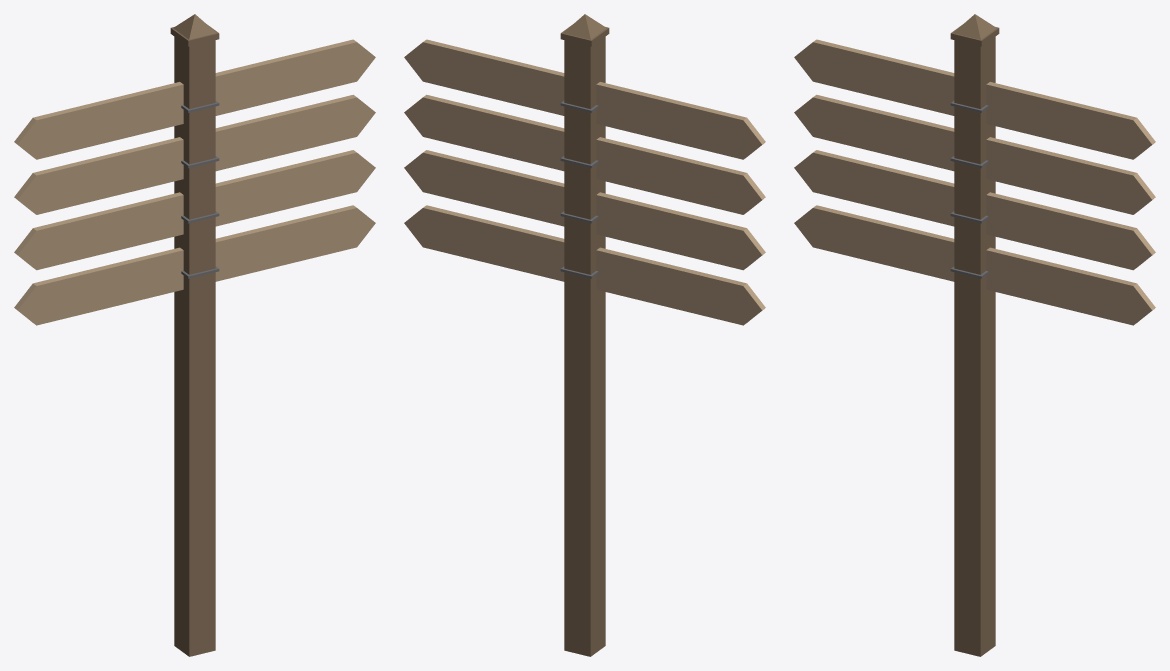
Rendered from fingerpost_4_1cd4858f.glb.
3 renders of one model, left to right at view 1: azimuth 30°, elevation 25°; view 2: azimuth 150°, elevation 25°; view 3: azimuth 330°, elevation 25°, orthographic.
Visible parts, largest first — view 1: post, arm2L, arm1L, arm3L, arm4L, arm2, arm3, arm4, arm1, collars; view 2: post, arm2L, arm1L, arm3L, arm4L, arm2, arm3, arm4, arm1, collars; view 3: post, arm2, arm1, arm3, arm4, arm2L, arm3L, arm4L, arm1L, collars.
Part boxes in pixels (<box>): post: <box>170,14,219,656</box>; arm2L: <box>14,137,183,214</box>; arm1L: <box>14,82,183,159</box>; arm3L: <box>14,192,183,270</box>; arm4L: <box>14,247,183,325</box>; arm2: <box>215,94,375,171</box>; arm3: <box>215,150,375,226</box>; arm4: <box>215,205,375,281</box>; arm1: <box>215,39,375,115</box>; collars: <box>181,101,219,278</box>; post: <box>560,14,609,656</box>; arm2L: <box>596,137,765,214</box>; arm1L: <box>596,82,765,159</box>; arm3L: <box>596,192,765,270</box>; arm4L: <box>596,247,765,325</box>; arm2: <box>404,94,564,171</box>; arm3: <box>404,150,564,226</box>; arm4: <box>404,205,564,281</box>; arm1: <box>404,39,564,115</box>; collars: <box>560,101,598,278</box>; post: <box>950,14,999,656</box>; arm2: <box>986,137,1155,214</box>; arm1: <box>986,82,1155,159</box>; arm3: <box>986,192,1155,270</box>; arm4: <box>986,247,1155,325</box>; arm2L: <box>794,94,954,171</box>; arm3L: <box>794,150,954,226</box>; arm4L: <box>794,205,954,281</box>; arm1L: <box>794,39,954,115</box>; collars: <box>950,101,988,278</box>.
Bounding box in the file's own units: 1.9 × 3.21 × 0.164.
